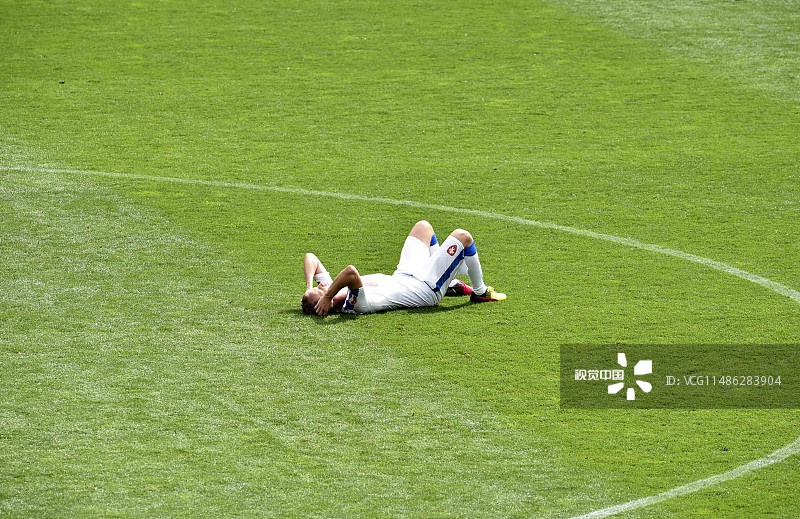falling: (287, 207, 509, 326)
